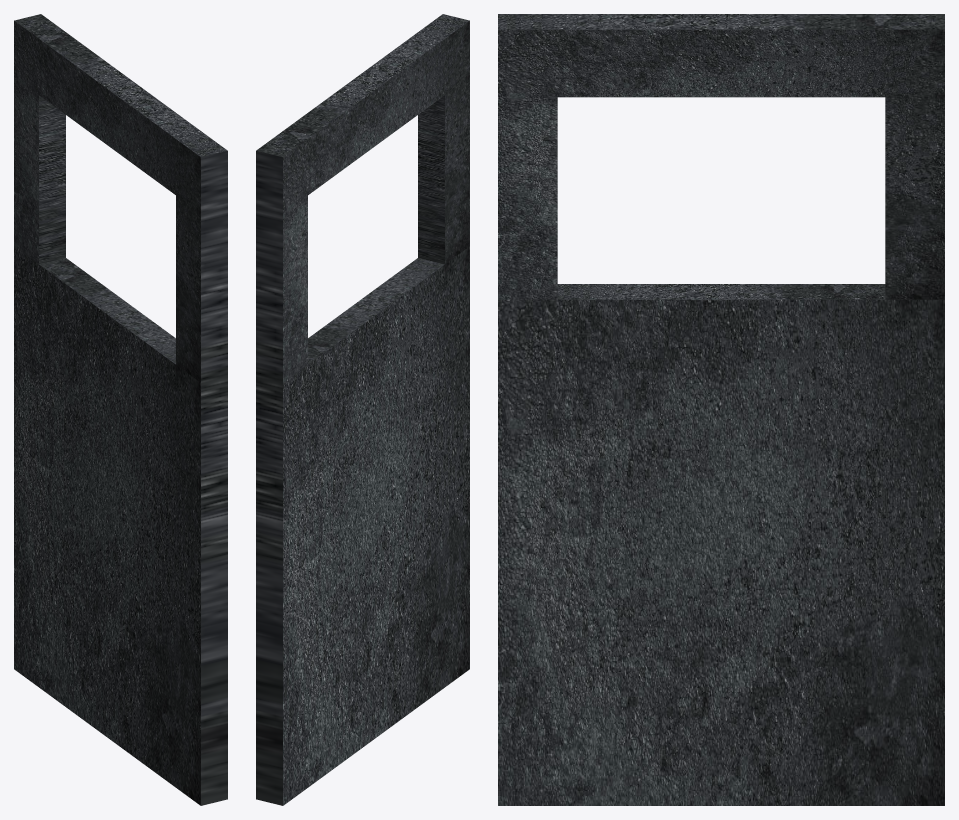
The model's file is Door.fbx.
3 views of the same model, side by side, from view 1: azimuth 30°, elevation 25°; view 2: azimuth 150°, elevation 25°; view 3: azimuth 270°, elevation 25° (orthographic). The views are drawn at different scales.
Visible parts, largest first — view 1: Cube.003; view 2: Cube.003; view 3: Cube.003.
Part boxes in pixels (x1,y1,x2,y2): Cube.003: [14, 14, 227, 805]; Cube.003: [256, 14, 469, 805]; Cube.003: [498, 14, 944, 805].
Size of the model in its own units: 5 by 115 by 60.
